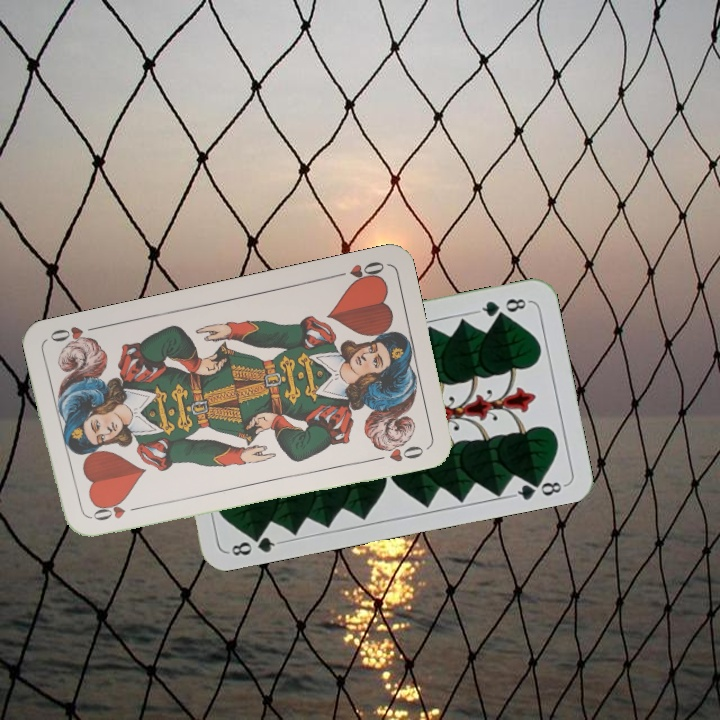G8: (227, 527, 284, 559), (473, 294, 532, 320)
HO: (329, 257, 387, 287), (85, 500, 144, 524)
